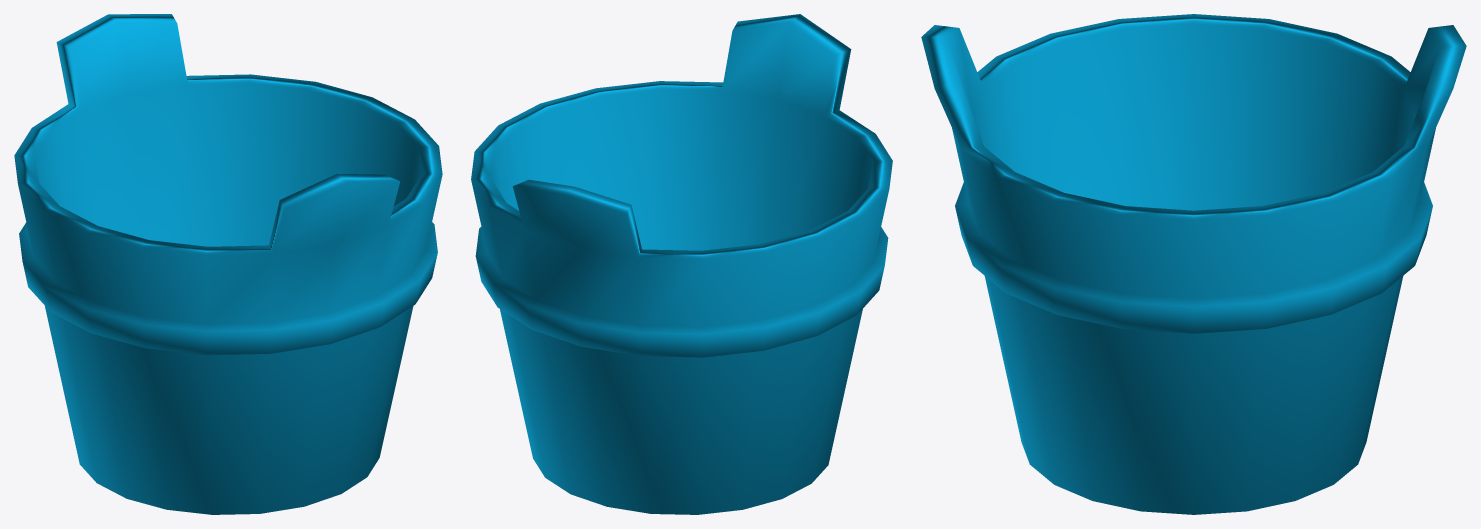
Rendered from Wood_Bucket.fbx.
The picture shows the model from 3 angles, left to right: view 1: azimuth 30°, elevation 25°; view 2: azimuth 150°, elevation 25°; view 3: azimuth 270°, elevation 25°; orthographic projection. The views are drawn at different scales.
Parts seen in each view (by area): view 1: Wood_Bucket; view 2: Wood_Bucket; view 3: Wood_Bucket.
Boxes of the visible parts, x1,y1,x2,y2 form: Wood_Bucket: (14,14,442,514); Wood_Bucket: (471,14,892,514); Wood_Bucket: (921,14,1466,514).
Bounding box in the file's own units: 49.34 × 45.11 × 55.06.
